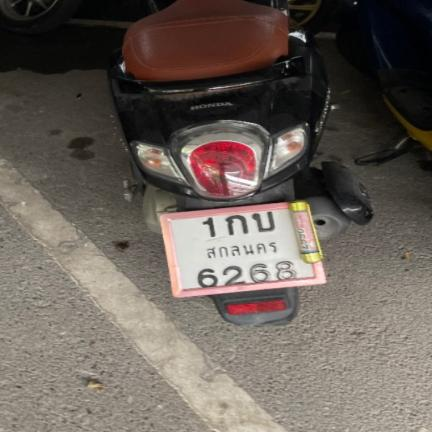1: (198, 217, 217, 238)
2: (221, 265, 249, 286)
6: (192, 267, 218, 288), (250, 261, 271, 283)
8: (274, 261, 298, 280)
A01: (222, 214, 250, 235)
A26: (252, 211, 277, 233)
SNK: (198, 238, 281, 261)
